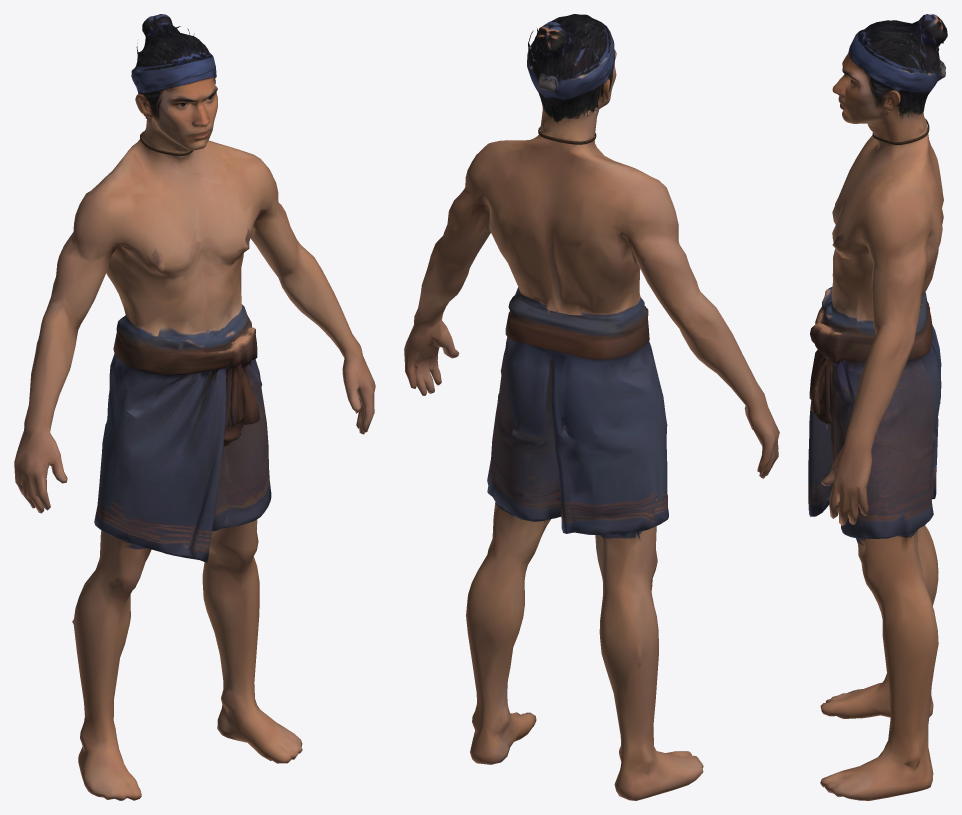
File: prajurit-utuh.glb
The picture shows the model from 3 angles, left to right: view 1: azimuth 30°, elevation 25°; view 2: azimuth 150°, elevation 25°; view 3: azimuth 270°, elevation 25°; orthographic projection. The views are drawn at different scales.
Parts seen in each view (by area): view 1: prajurit; view 2: prajurit; view 3: prajurit.
Boxes of the visible parts, x1,y1,x2,y2 form: prajurit: [14, 14, 375, 800]; prajurit: [404, 14, 779, 800]; prajurit: [808, 14, 947, 800].
Bounding box in the file's own units: 0.8539 × 1.68 × 0.2877.
Materials: 1 (1 with a texture image).
